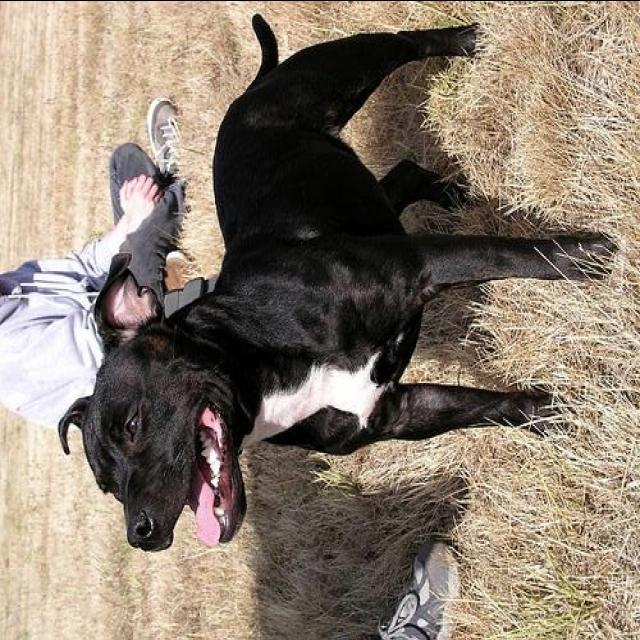staffordshire_bullterrier: (58, 12, 616, 555)
